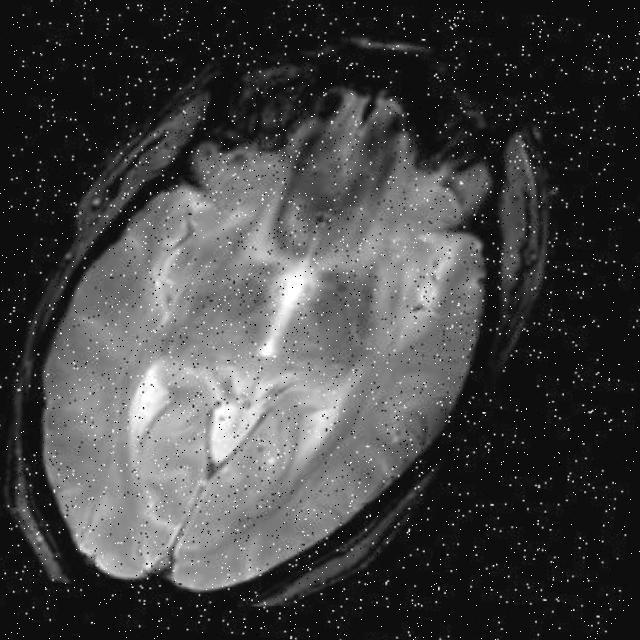MCI: (278, 132, 409, 298), (140, 207, 228, 324), (386, 290, 468, 391)
